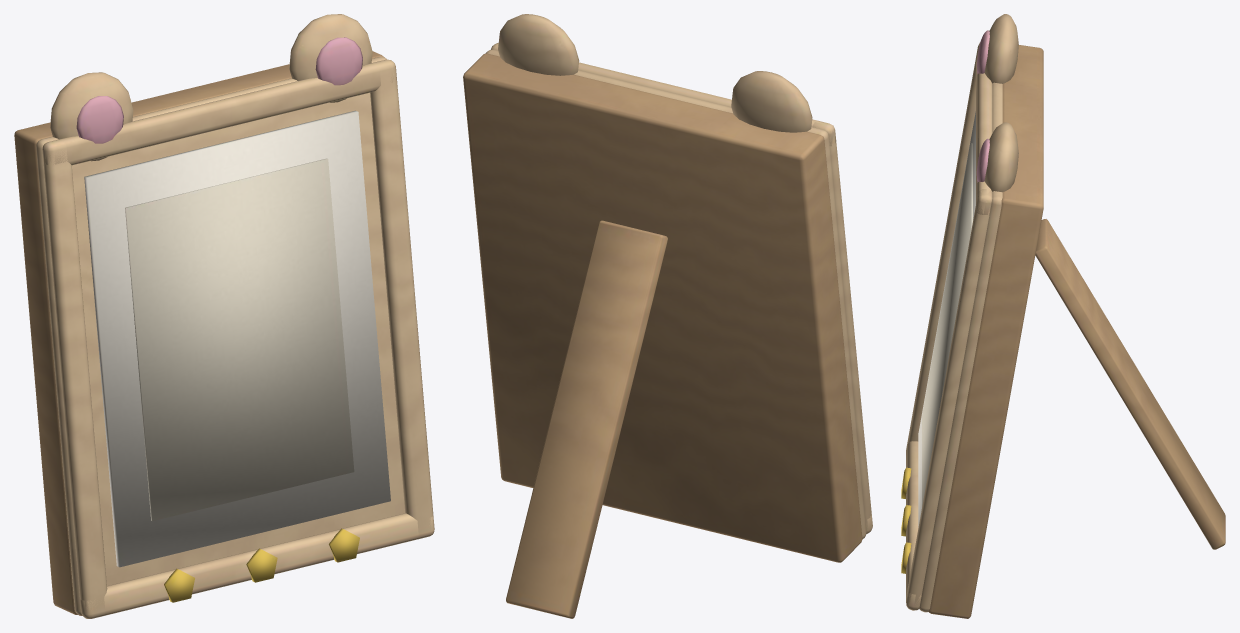
File: tm-baby-photo-frame.glb
3 renders of one model, left to right at view 1: azimuth 30°, elevation 25°; view 2: azimuth 150°, elevation 25°; view 3: azimuth 270°, elevation 25°, orthographic. The views are drawn at different scales.
Visible parts, largest first — view 1: tm-baby-photo-frame; view 2: tm-baby-photo-frame; view 3: tm-baby-photo-frame.
Part boxes in pixels (bbox=[...]): tm-baby-photo-frame: bbox=[14, 14, 434, 618]; tm-baby-photo-frame: bbox=[463, 14, 872, 618]; tm-baby-photo-frame: bbox=[901, 14, 1225, 618].
Bounding box in the file's own units: 0.1701 × 0.234 × 0.1467.
1 material, 1 textured.
